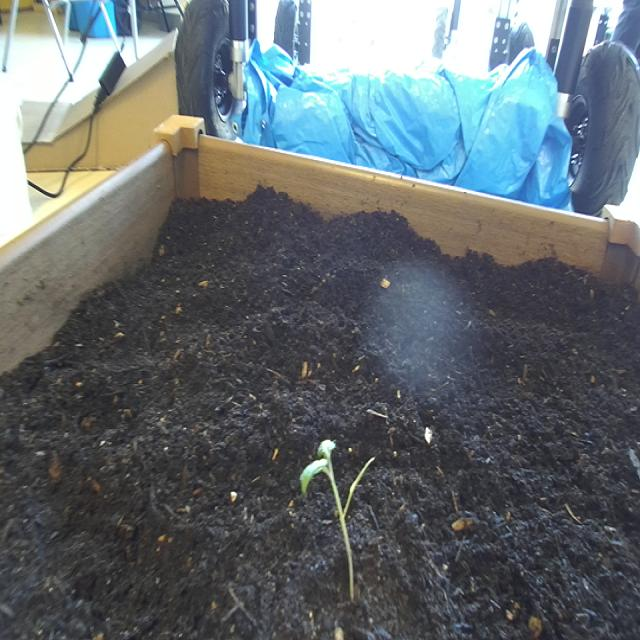Healthy: (292, 412, 392, 618)
